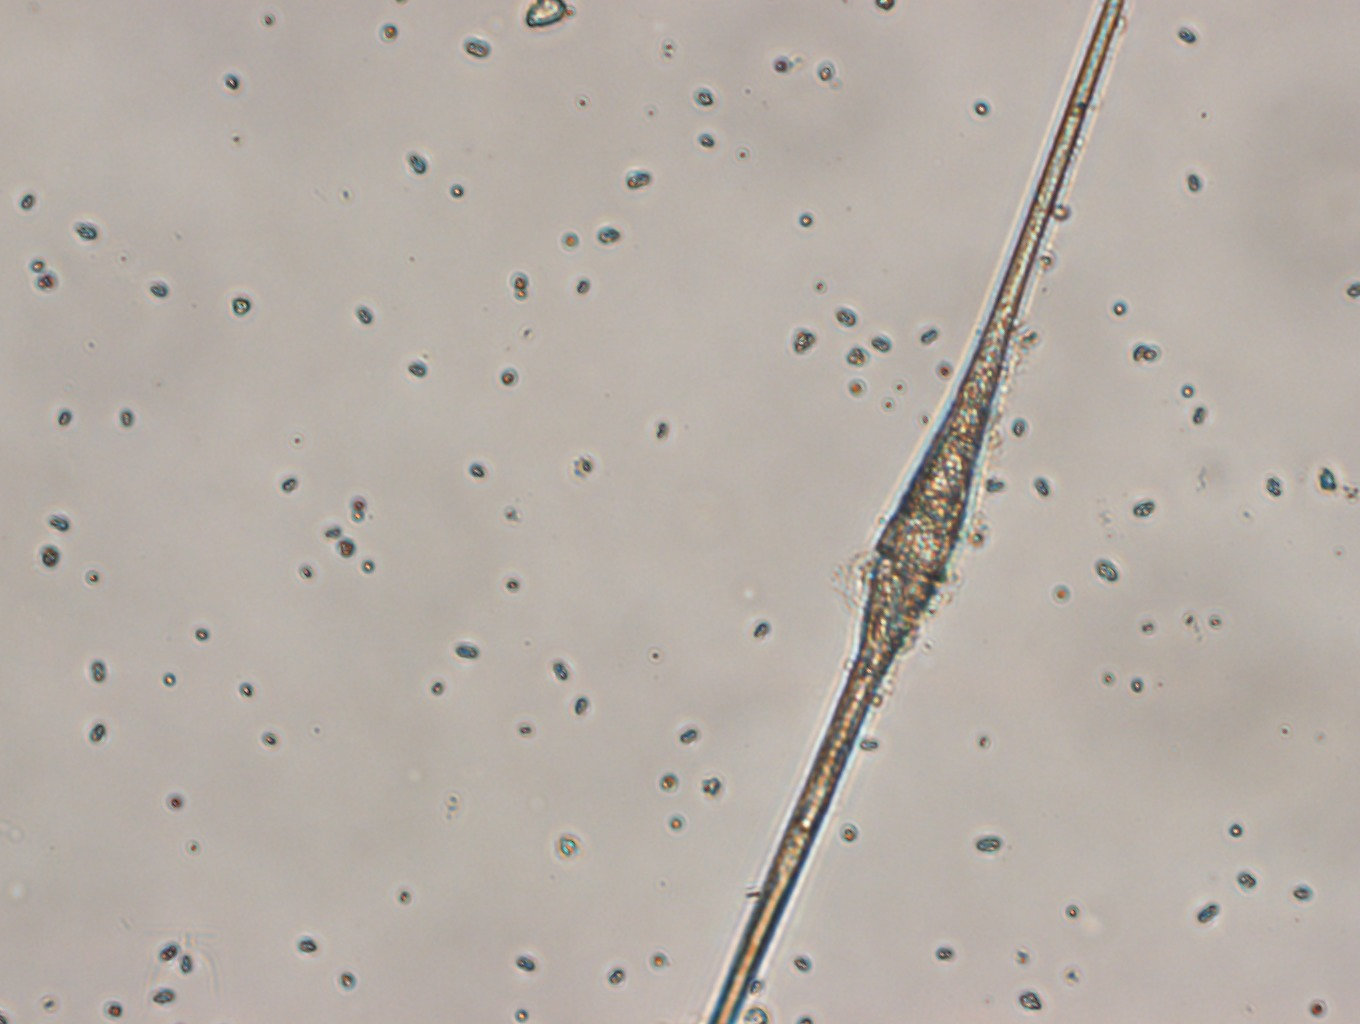ceratium fusus: (657, 8, 1137, 1024)
